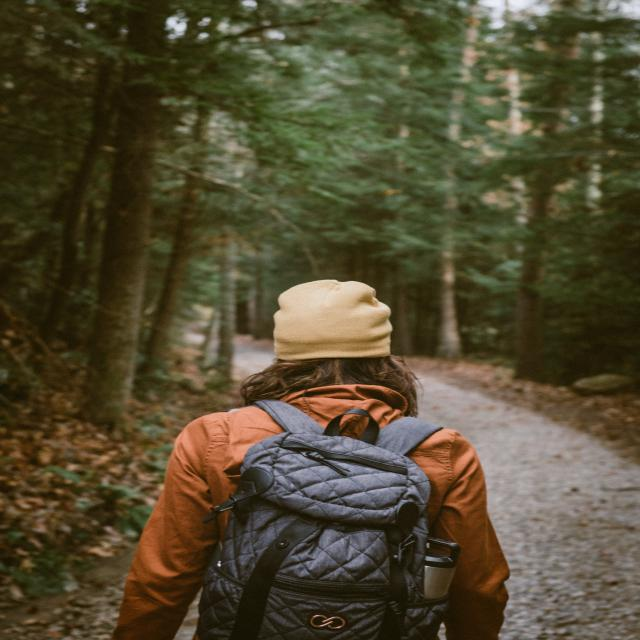backpack: (198, 403, 462, 635)
